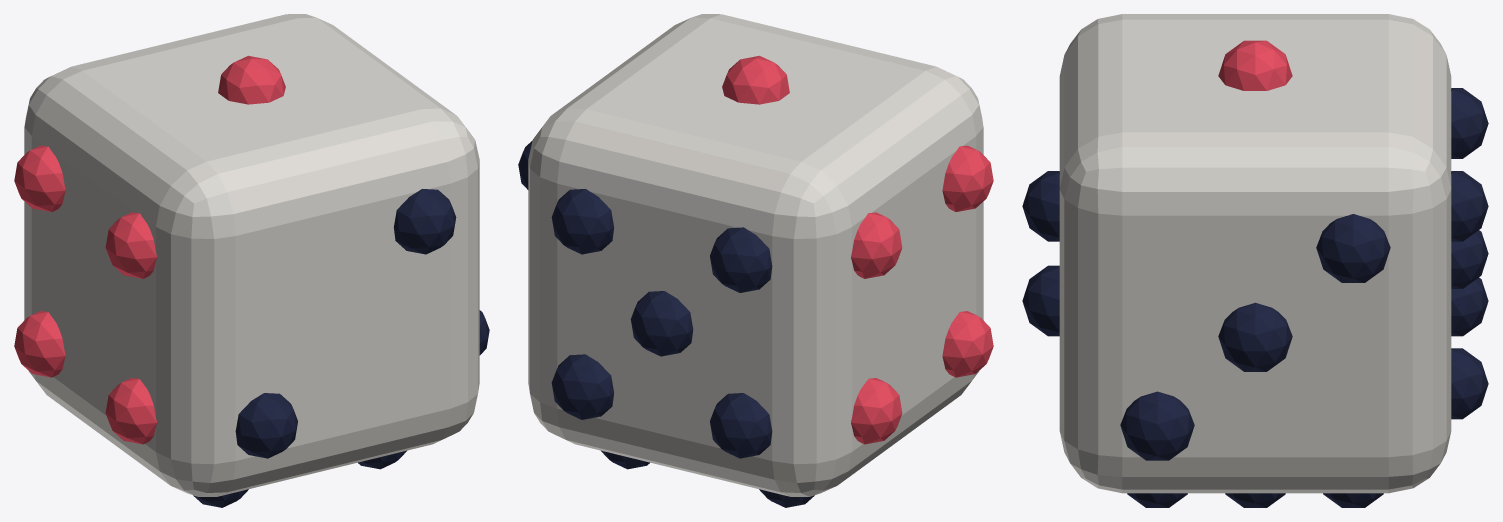
Rendered from die.glb.
The picture shows the model from 3 angles, left to right: view 1: azimuth 30°, elevation 25°; view 2: azimuth 150°, elevation 25°; view 3: azimuth 270°, elevation 25°; orthographic projection. The views are drawn at different scales.
Visible parts, largest first — view 1: Cube; view 2: Cube; view 3: Cube.
Part boxes in pixels (box(x1,y1,x2,y2)): Cube: box(14, 14, 489, 507); Cube: box(518, 14, 993, 507); Cube: box(1022, 14, 1488, 507).
Size of the model in its own units: 0.2361 by 0.238 by 0.238.
